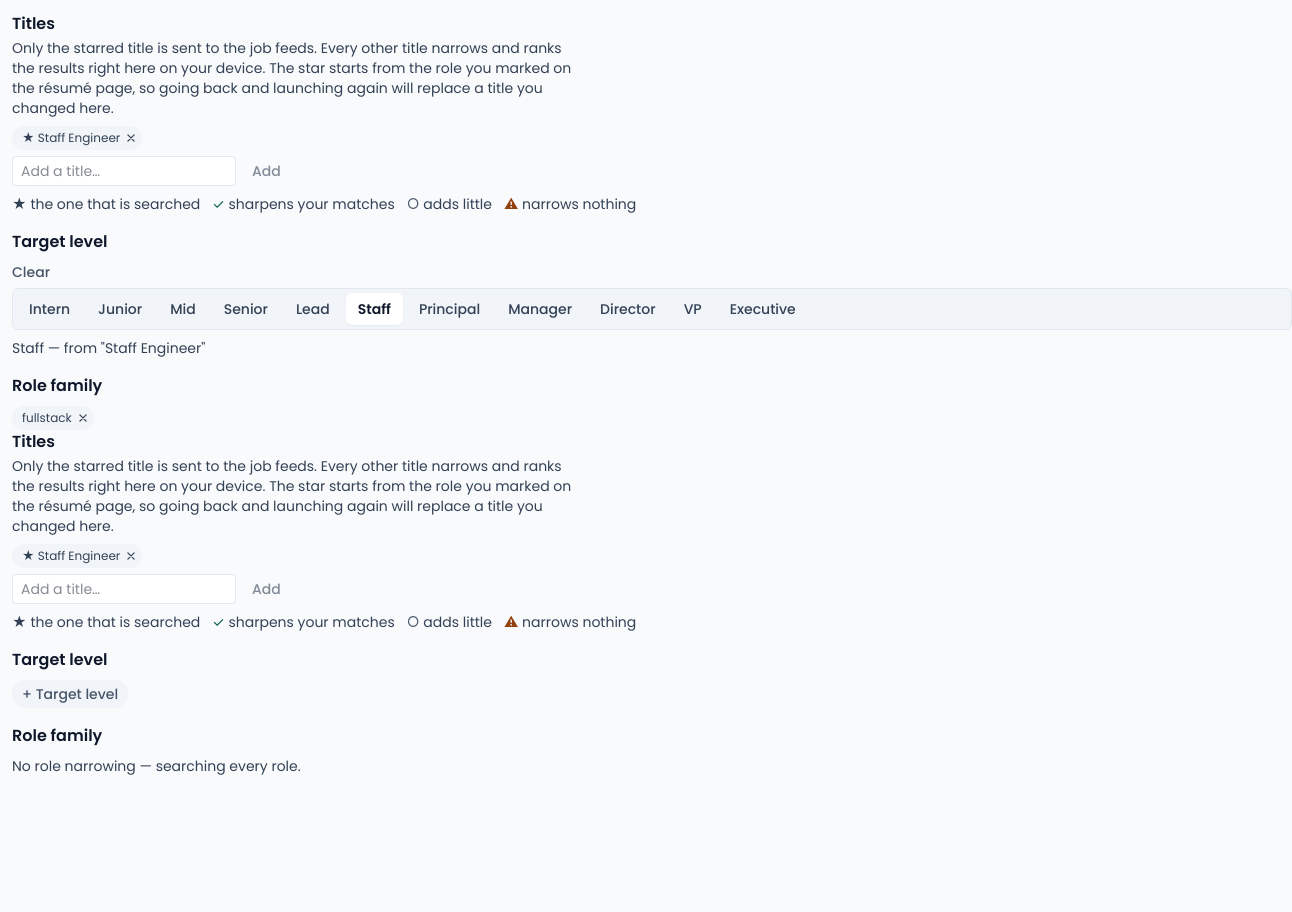
Test: JobQueryEditor — query mutation contract (issue 589) › clicking the '+ Target level' pill reveals LevelSelect
This screenshot has width=1292, height=912.
Click the button "+ Target level": (70, 694) [12,680,128,708]
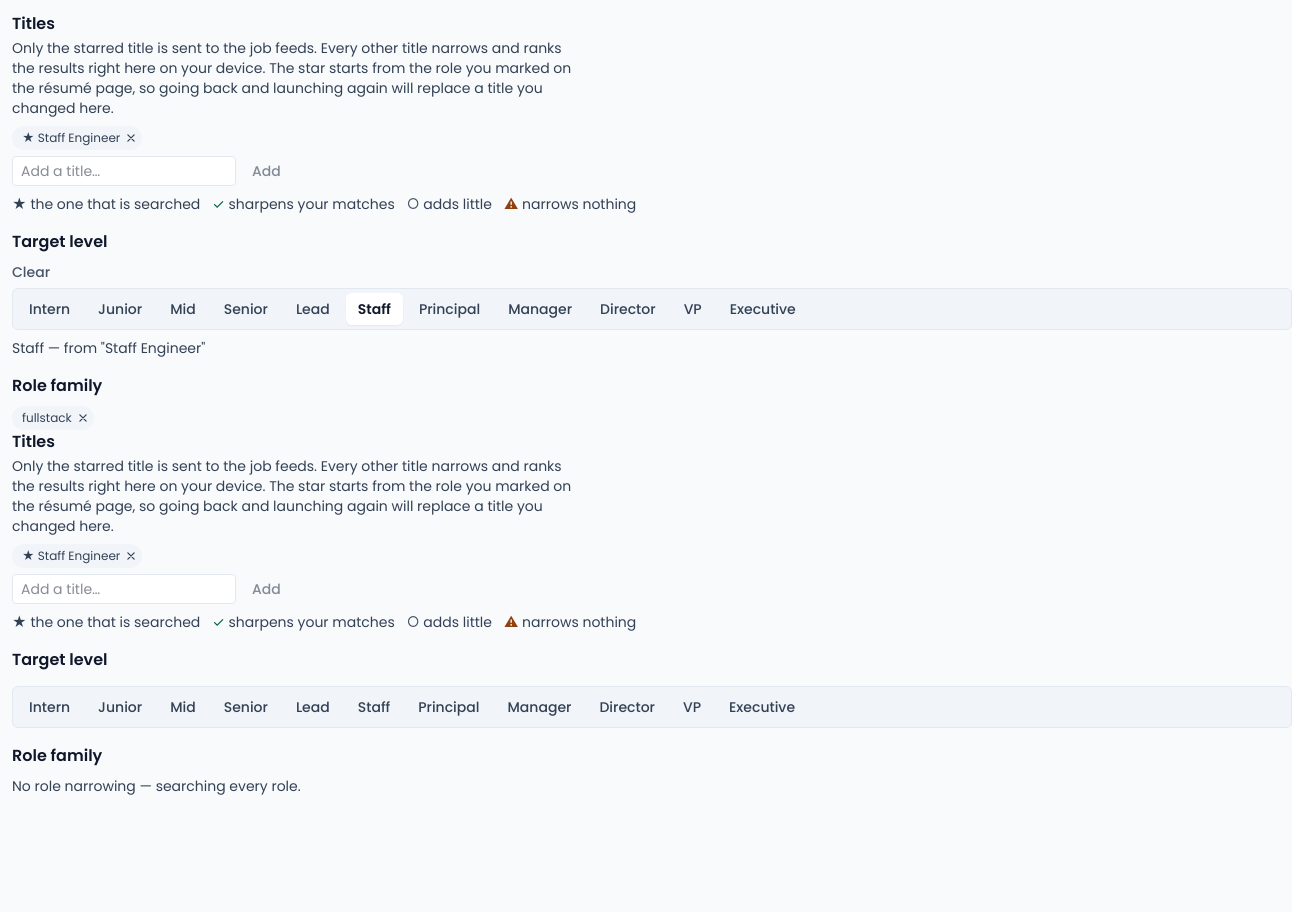
Result: the 2nd radio button labelled "Intern" is shown at [17,691,82,723]
